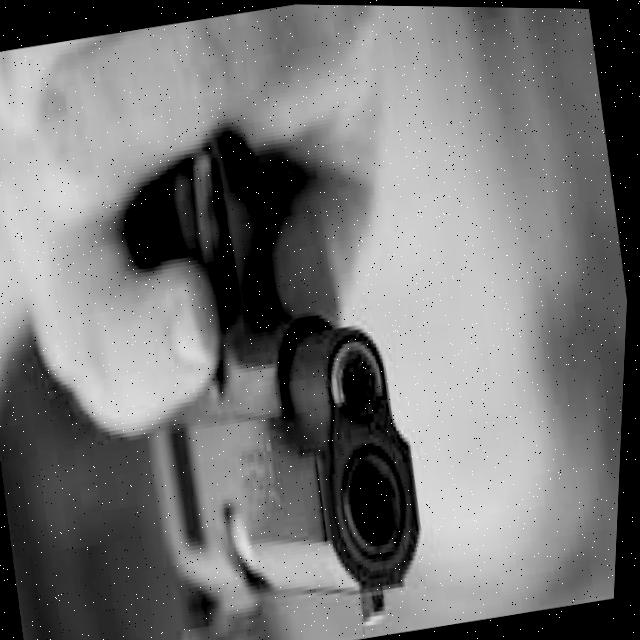pistol: (94, 105, 457, 640)
